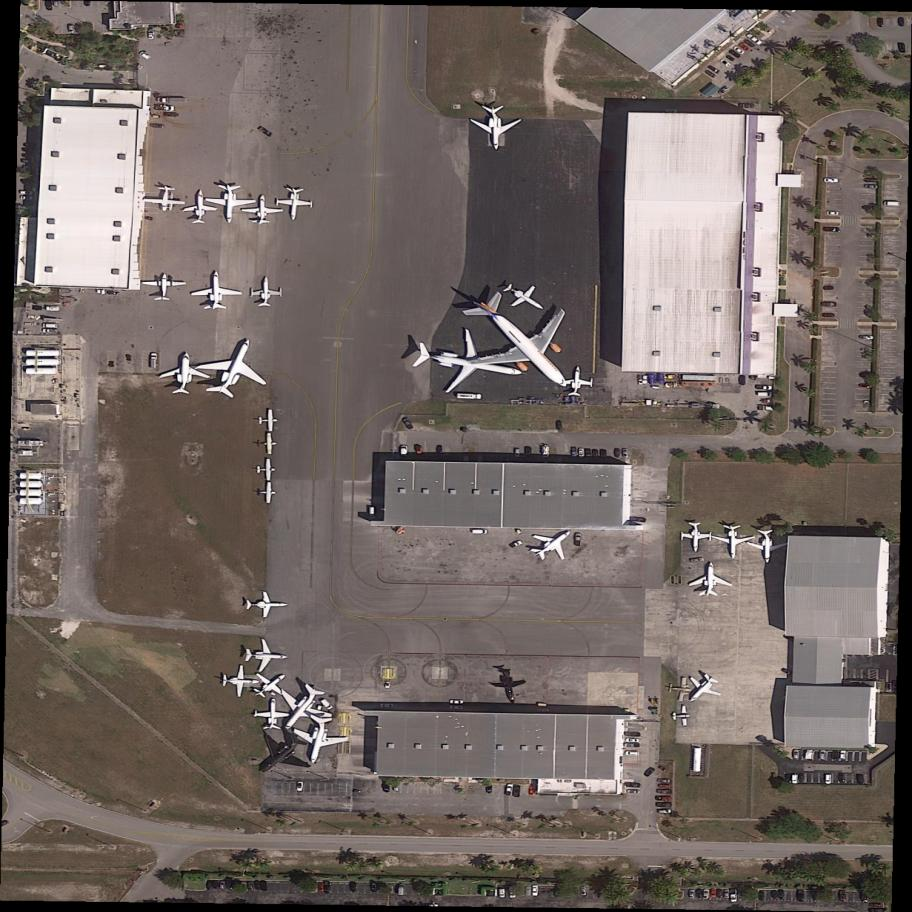large-vehicle: (158, 96, 187, 105), (457, 393, 483, 401), (148, 353, 159, 369)
plane: (435, 251, 613, 430), (402, 319, 532, 412), (187, 325, 283, 410), (256, 669, 345, 749), (285, 712, 353, 770), (522, 514, 585, 575), (673, 661, 730, 718), (496, 271, 555, 324), (242, 658, 296, 710), (470, 103, 527, 152), (157, 352, 213, 398), (204, 182, 256, 224), (190, 271, 243, 310), (489, 664, 531, 710), (244, 638, 291, 675), (688, 561, 734, 598), (710, 525, 756, 560), (140, 183, 187, 215), (273, 185, 313, 222), (220, 663, 262, 698), (746, 530, 788, 565), (245, 589, 289, 621), (141, 273, 187, 302), (241, 195, 284, 225), (253, 698, 290, 731), (184, 190, 218, 225), (561, 364, 595, 399), (249, 276, 284, 307), (680, 521, 713, 553), (666, 675, 693, 704), (253, 482, 276, 505), (256, 433, 279, 456), (257, 409, 279, 432), (671, 705, 692, 728), (256, 459, 276, 481)
small-vehicle: (745, 31, 765, 48), (755, 21, 774, 37), (402, 415, 416, 432), (257, 125, 274, 138), (642, 766, 656, 780), (702, 67, 718, 79), (139, 50, 153, 63), (508, 539, 524, 550), (719, 57, 732, 70), (708, 63, 722, 75), (728, 48, 742, 60), (716, 84, 730, 96), (778, 9, 792, 21), (733, 45, 748, 56), (657, 763, 670, 775), (295, 780, 306, 794), (860, 890, 871, 904), (367, 506, 377, 521), (400, 445, 410, 460), (630, 516, 648, 524), (743, 38, 756, 49), (512, 784, 522, 798), (397, 883, 407, 897), (573, 533, 583, 547), (505, 783, 514, 798), (20, 178, 39, 185), (837, 773, 848, 785), (856, 773, 866, 786), (472, 528, 488, 536), (523, 446, 533, 458), (149, 122, 164, 130), (754, 385, 774, 391), (20, 159, 40, 165), (822, 227, 842, 233), (382, 780, 391, 793), (796, 889, 805, 902), (730, 889, 739, 902), (41, 323, 60, 329), (542, 445, 550, 459), (657, 788, 673, 795), (739, 42, 750, 52), (413, 444, 422, 456), (147, 28, 156, 40), (819, 750, 828, 762), (24, 142, 42, 148), (22, 148, 40, 154), (21, 165, 39, 171), (898, 42, 907, 54), (755, 391, 773, 397), (579, 885, 588, 897), (819, 302, 836, 308), (624, 782, 641, 788), (528, 786, 537, 797), (349, 882, 358, 893), (725, 54, 736, 63), (687, 888, 696, 899), (657, 783, 671, 790), (635, 375, 643, 387), (531, 884, 539, 896), (509, 887, 517, 899), (254, 880, 262, 892), (219, 880, 227, 892), (213, 879, 221, 891), (793, 749, 801, 761), (771, 890, 779, 902), (839, 890, 847, 902), (885, 201, 901, 207), (703, 889, 711, 901), (584, 447, 592, 459), (570, 446, 578, 458), (657, 808, 673, 814), (655, 795, 671, 801), (625, 742, 641, 748), (324, 882, 331, 895), (163, 112, 181, 117), (19, 190, 34, 196), (876, 17, 885, 27), (599, 450, 608, 460), (656, 802, 671, 808), (206, 880, 214, 891), (499, 888, 507, 899), (247, 881, 255, 892), (825, 774, 833, 785), (752, 891, 760, 902), (710, 889, 718, 900), (840, 750, 848, 761), (739, 375, 747, 386), (622, 448, 630, 459), (42, 328, 59, 333), (23, 154, 40, 159), (625, 790, 642, 795), (625, 751, 642, 756), (624, 732, 641, 737), (380, 703, 394, 709), (450, 705, 464, 711), (870, 902, 884, 908), (718, 889, 725, 901), (865, 184, 879, 190), (485, 783, 493, 793), (448, 699, 464, 704), (514, 448, 522, 458), (392, 781, 400, 791), (370, 883, 378, 893), (898, 17, 906, 27), (858, 384, 874, 389), (436, 444, 443, 455), (240, 881, 247, 892), (887, 682, 894, 693), (696, 889, 703, 900), (578, 448, 585, 459), (656, 779, 671, 784), (625, 738, 640, 743), (262, 880, 268, 892), (791, 774, 799, 783), (799, 773, 806, 783), (556, 421, 563, 431), (859, 335, 873, 340), (822, 313, 836, 318), (825, 178, 839, 183), (536, 708, 550, 713), (318, 882, 324, 893), (778, 890, 784, 901), (824, 285, 835, 291), (593, 448, 599, 459), (21, 195, 34, 200), (642, 375, 648, 385), (759, 891, 765, 901), (68, 25, 75, 33), (615, 449, 622, 457), (227, 881, 233, 890), (725, 890, 730, 900), (827, 211, 839, 215)
